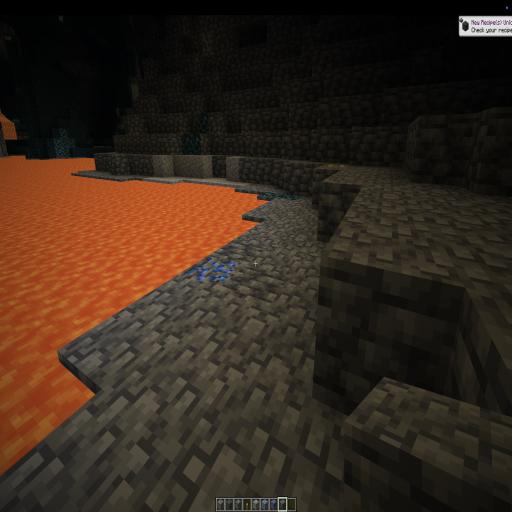lapis ore: (183, 253, 240, 288)
